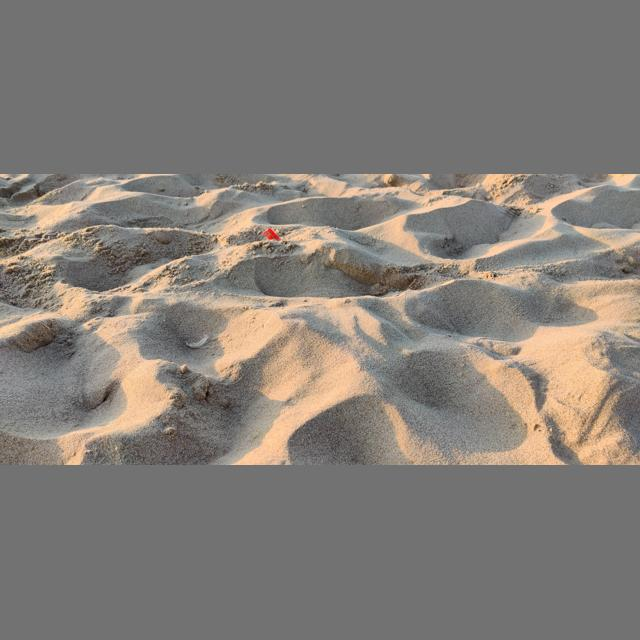litter: (187, 336, 211, 349), (263, 228, 282, 240)
